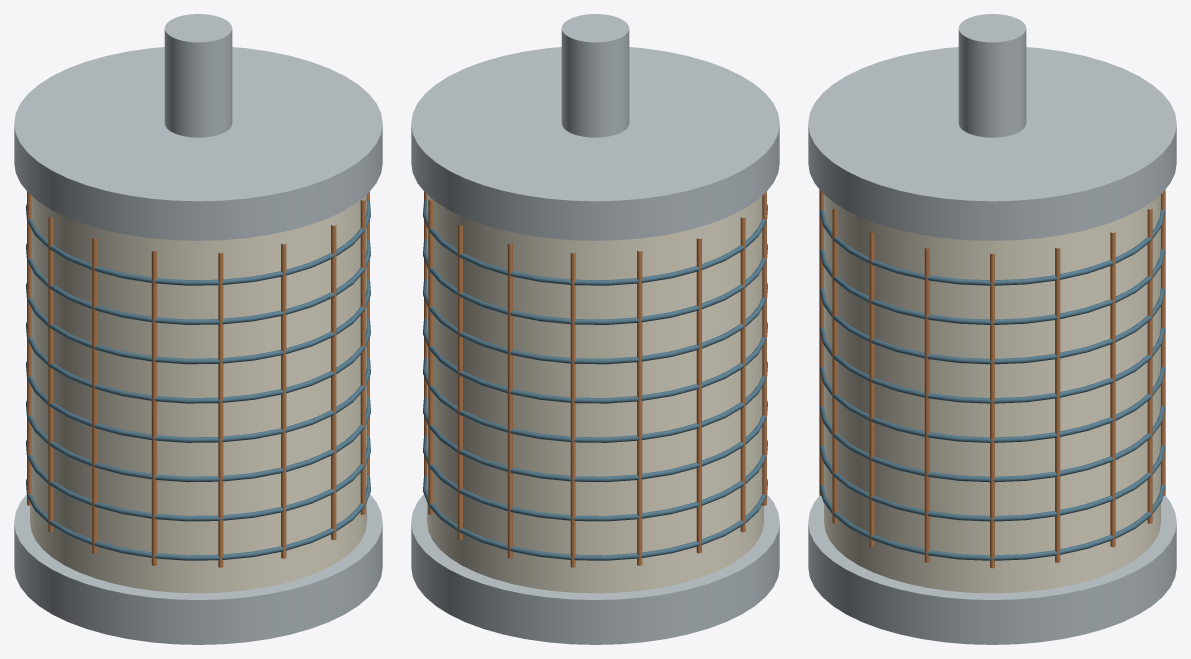
The model's file is abandoned-weather-station-and-storm-shelter-chart-drum-b1a7130f__31013.glb.
3 renders of one model, left to right at view 1: azimuth 30°, elevation 25°; view 2: azimuth 150°, elevation 25°; view 3: azimuth 270°, elevation 25°, orthographic.
Visible parts, largest first — view 1: chart-drum; view 2: chart-drum; view 3: chart-drum.
Part boxes in pixels (<box>): chart-drum: <box>14,14,382,644</box>; chart-drum: <box>411,14,779,644</box>; chart-drum: <box>808,14,1176,644</box>.
Bounding box in the file's own units: 0.186 × 0.3 × 0.186.
